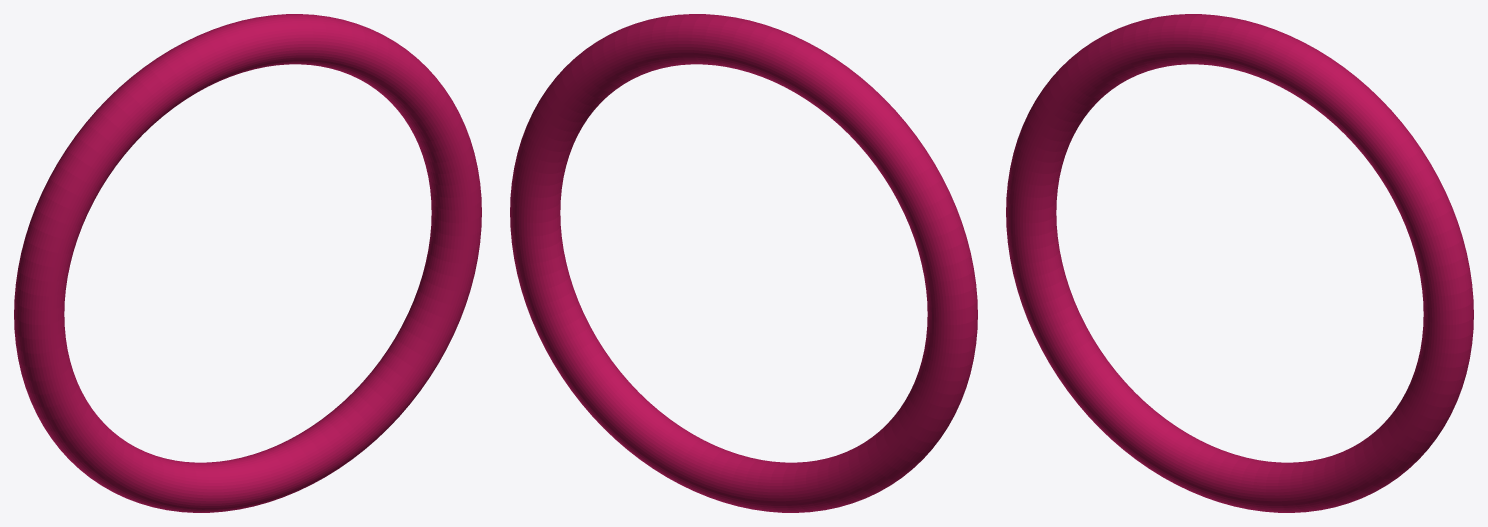
3 views of the same model, side by side, from view 1: azimuth 30°, elevation 25°; view 2: azimuth 150°, elevation 25°; view 3: azimuth 330°, elevation 25° (orthographic).
Visible parts, largest first — view 1: world; view 2: world; view 3: world.
Boxes of the visible parts, box(x1,y1,x2,y2) form: world: box(14, 14, 481, 512); world: box(510, 14, 977, 512); world: box(1006, 14, 1473, 512).
Size of the model in its own units: 32.4 by 32.4 by 3.06.
